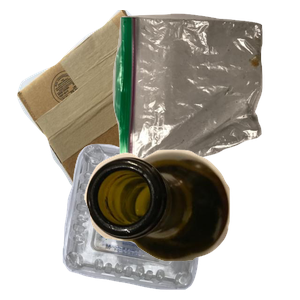cardboard: (14, 10, 222, 190)
glass: (82, 147, 300, 300)
plastic: (60, 141, 263, 300)
trash: (110, 11, 300, 167)
